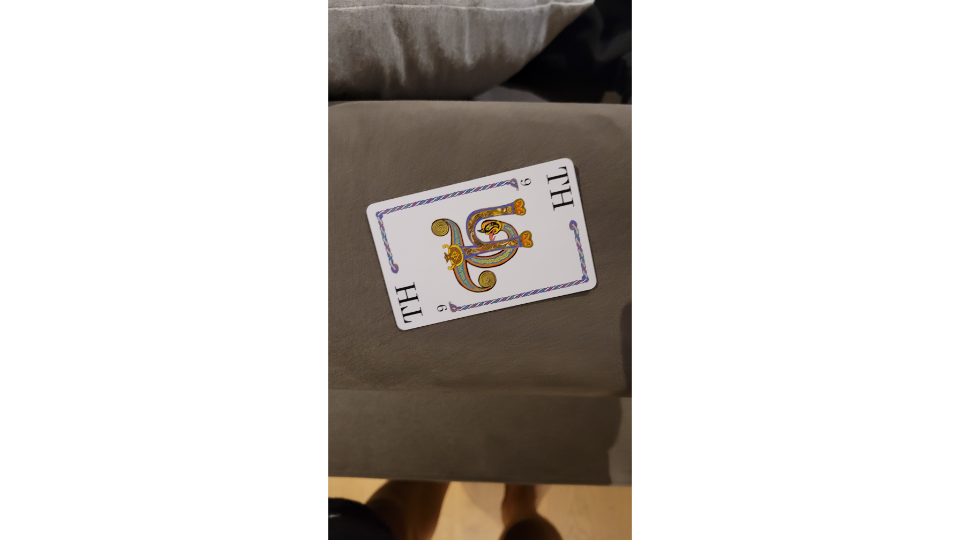TH: (363, 156, 600, 333)
